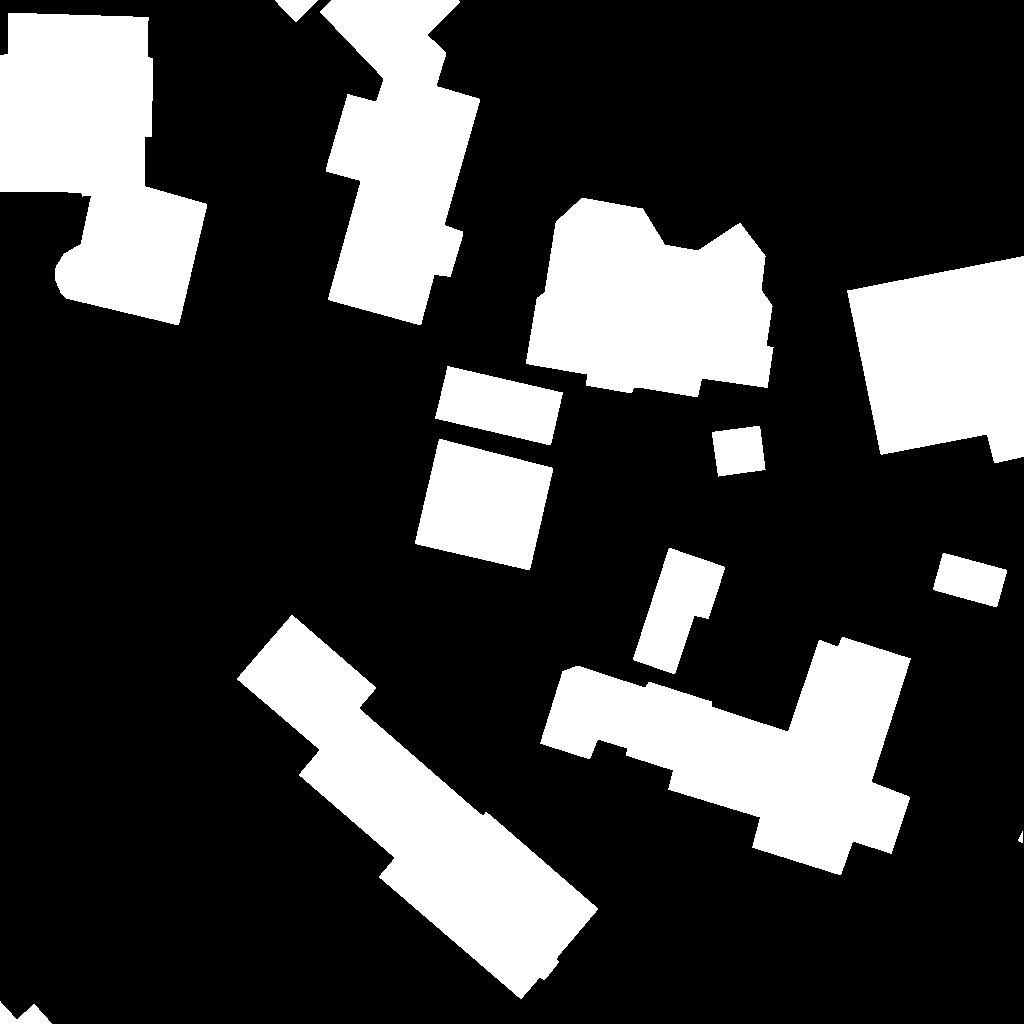building: (237, 615, 599, 1000), (540, 637, 912, 876), (0, 13, 208, 326), (320, 0, 481, 326), (526, 198, 774, 398), (847, 256, 1024, 464), (415, 439, 554, 571), (633, 548, 726, 675), (435, 366, 564, 446), (933, 553, 1008, 608), (712, 426, 766, 477), (0, 1001, 53, 1024), (274, 0, 319, 23), (1018, 831, 1024, 844)
